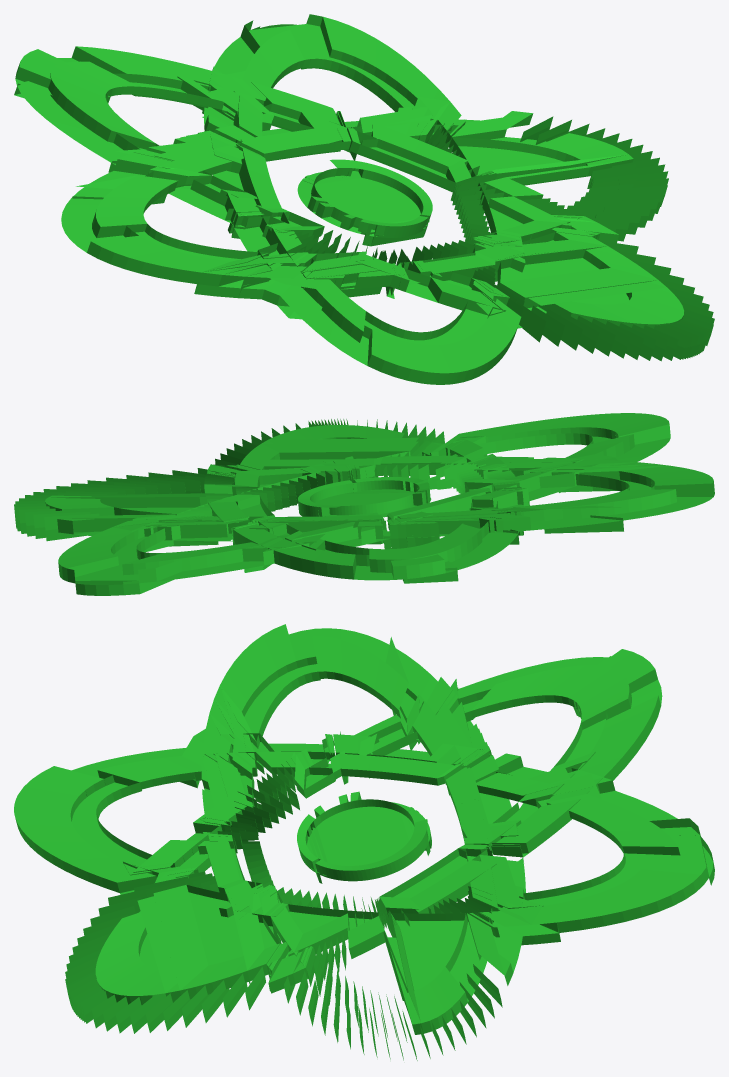
The model's file is react22.glb.
3 renders of one model, top to bottom at view 1: azimuth 30°, elevation 25°; view 2: azimuth 150°, elevation 25°; view 3: azimuth 270°, elevation 25°, orthographic. The views are drawn at different scales.
Parts seen in each view (by area): view 1: Curve; view 2: Curve; view 3: Curve.
Part boxes in pixels (x1,y1,x2,y2): Curve: (14, 14, 714, 384); Curve: (14, 413, 714, 595); Curve: (14, 624, 714, 1060).
Size of the model in its own units: 0.6606 by 0.1816 by 0.6405.
